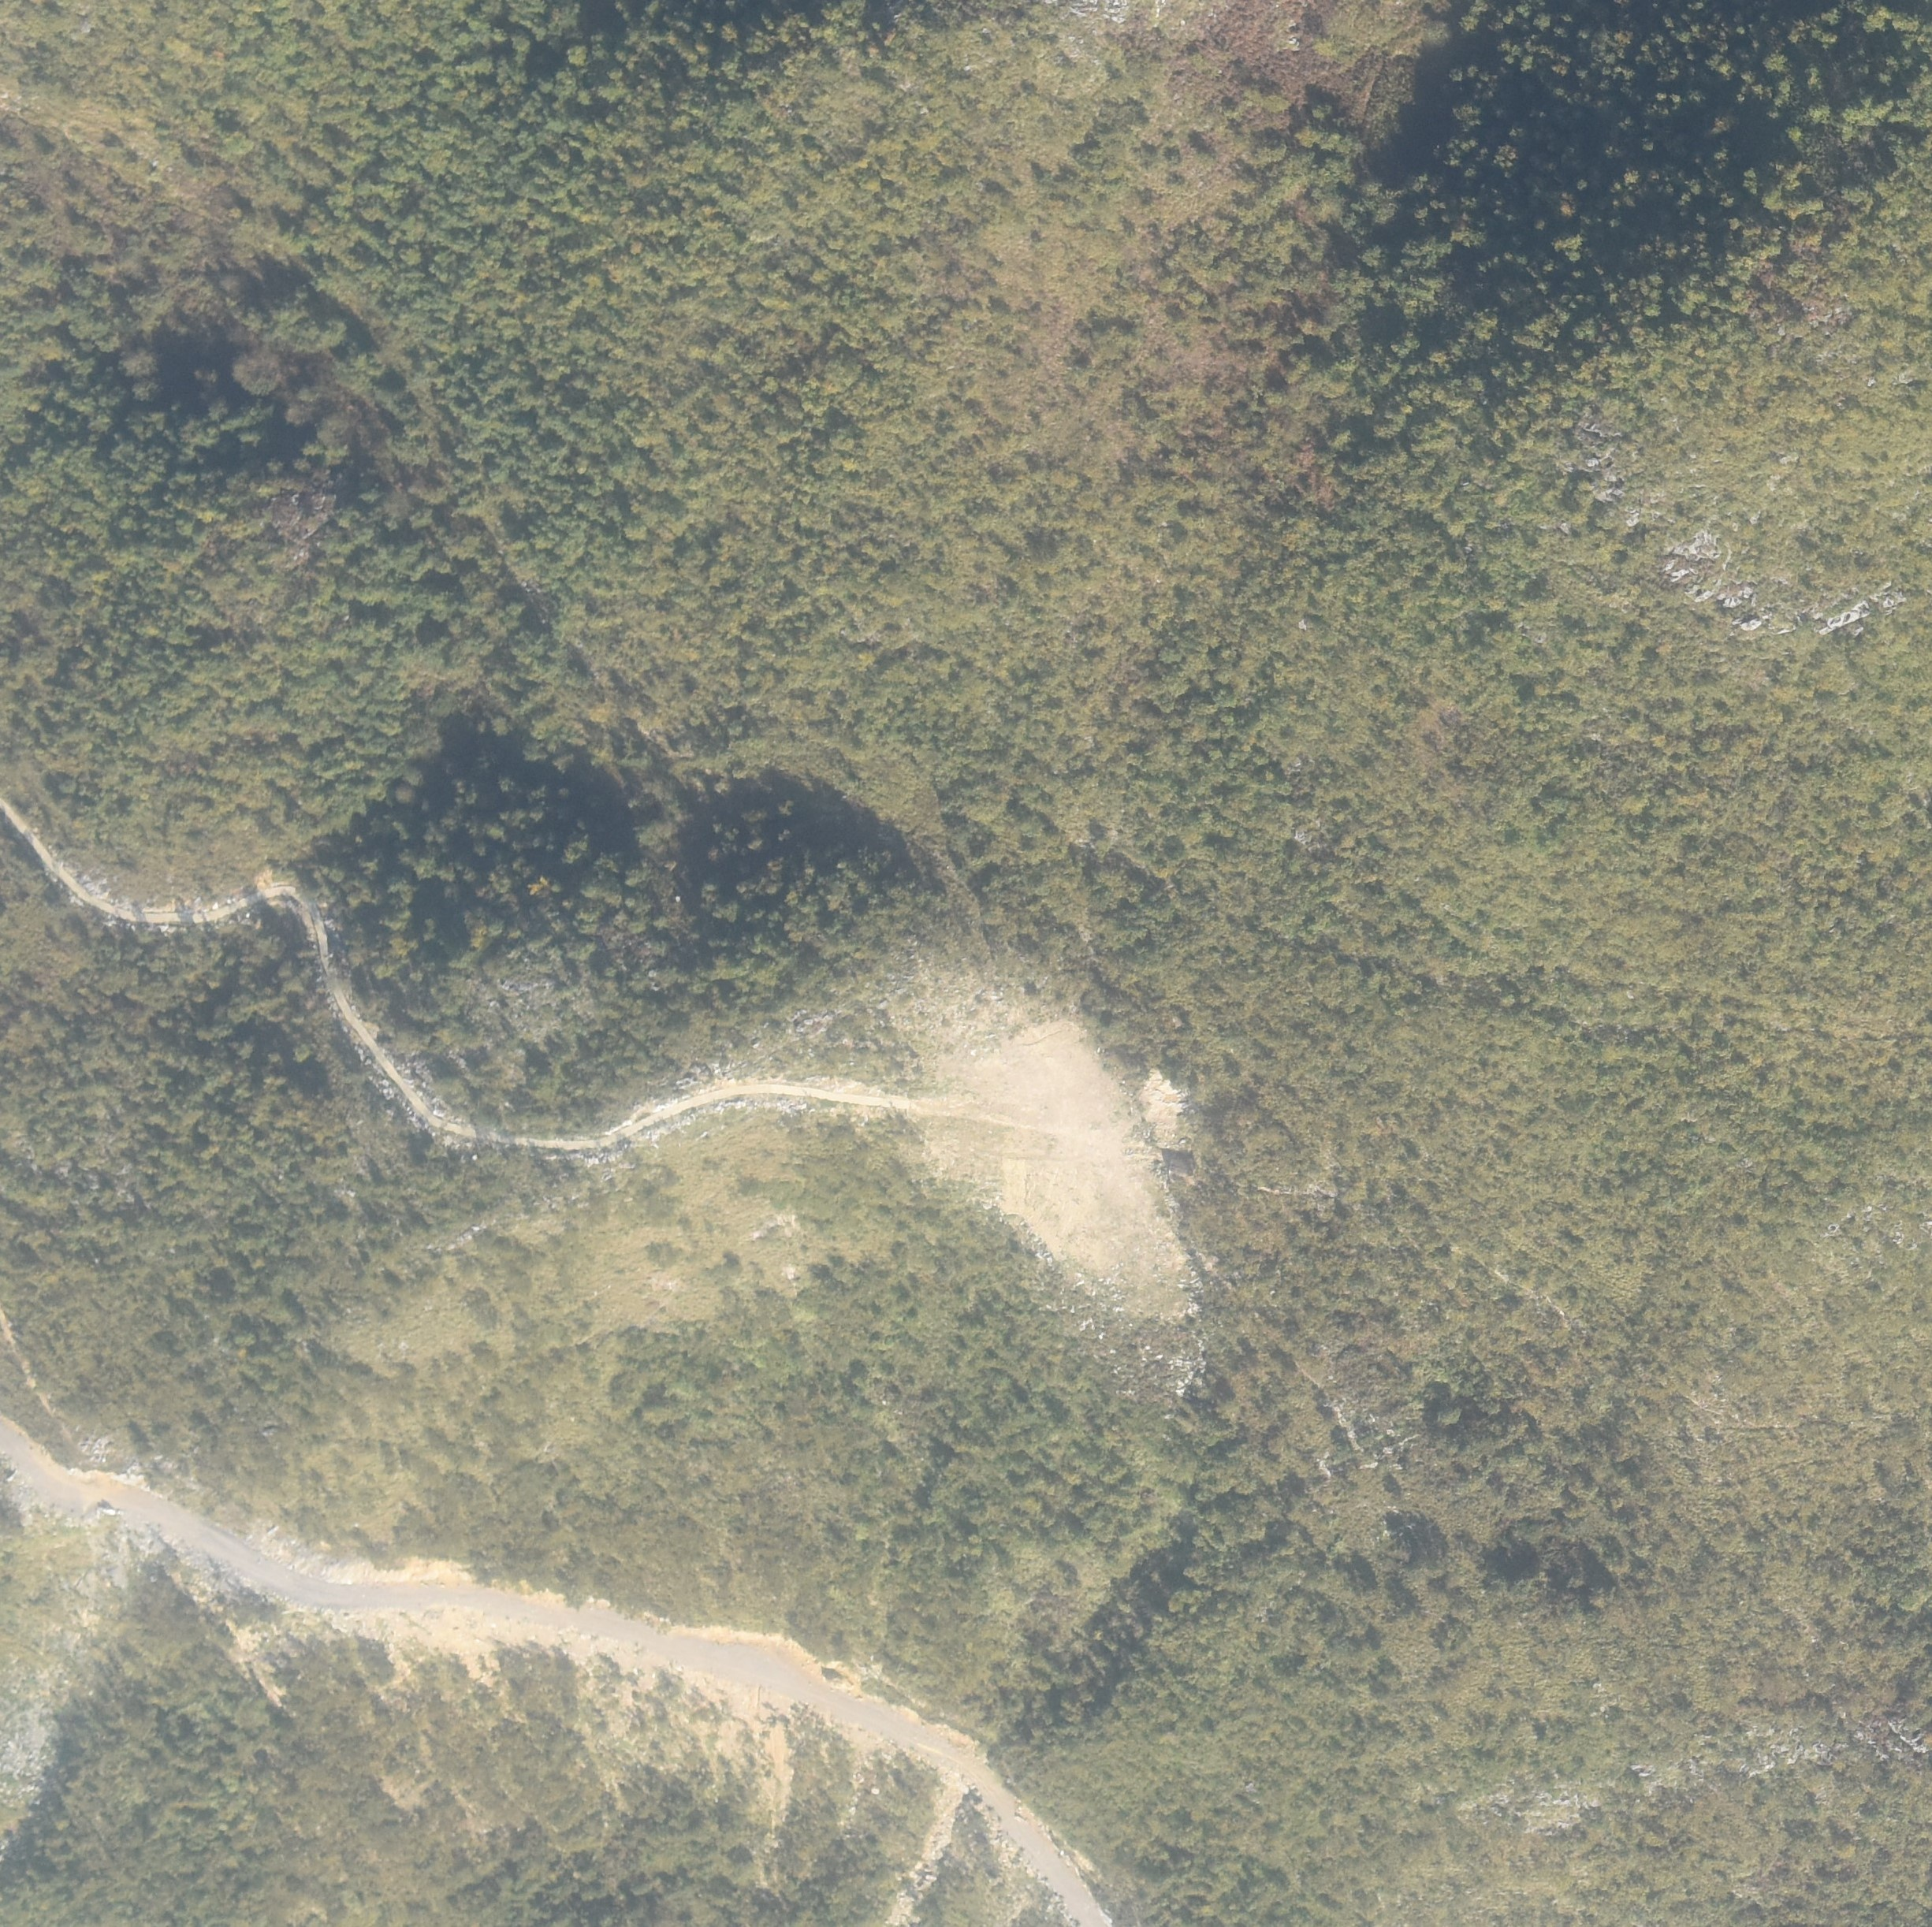quarry: (873, 1013, 1216, 1336)
